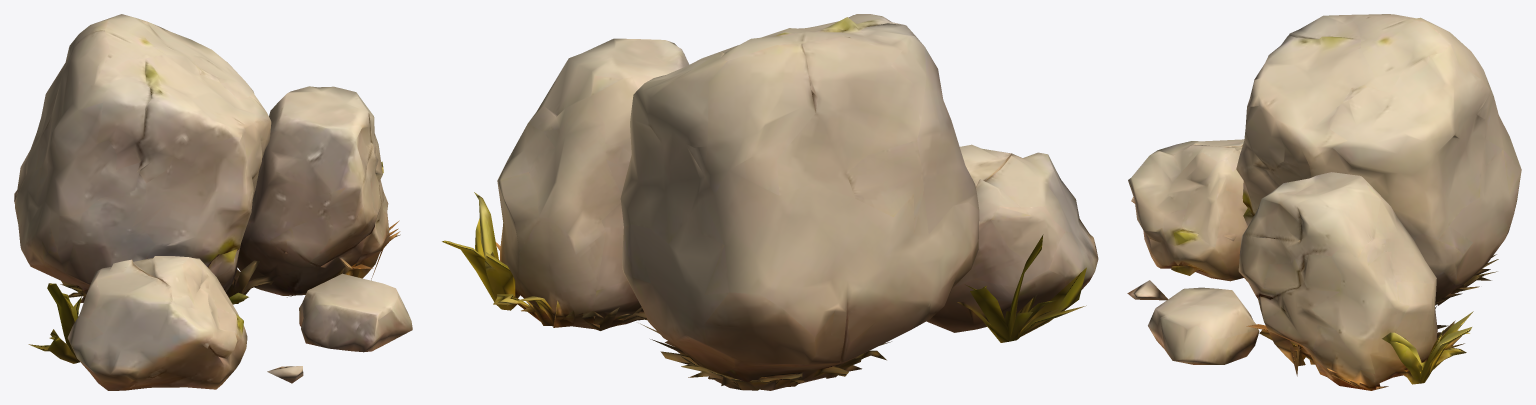
File: rocks.glb
3 renders of one model, left to right at view 1: azimuth 30°, elevation 25°; view 2: azimuth 150°, elevation 25°; view 3: azimuth 270°, elevation 25°, orthographic. The views are drawn at different scales.
Visible parts, largest first — view 1: tripo_node_61a2c38c-3e77-4de1-a430-d26f05337cc8; view 2: tripo_node_61a2c38c-3e77-4de1-a430-d26f05337cc8; view 3: tripo_node_61a2c38c-3e77-4de1-a430-d26f05337cc8.
Part boxes in pixels (box(x1,y1,x2,y2)): tripo_node_61a2c38c-3e77-4de1-a430-d26f05337cc8: box(14, 14, 412, 390); tripo_node_61a2c38c-3e77-4de1-a430-d26f05337cc8: box(442, 14, 1098, 390); tripo_node_61a2c38c-3e77-4de1-a430-d26f05337cc8: box(1127, 14, 1521, 390).
Bounding box in the file's own units: 1 × 0.6035 × 0.8264.
Materials: 1 (1 with a texture image).
